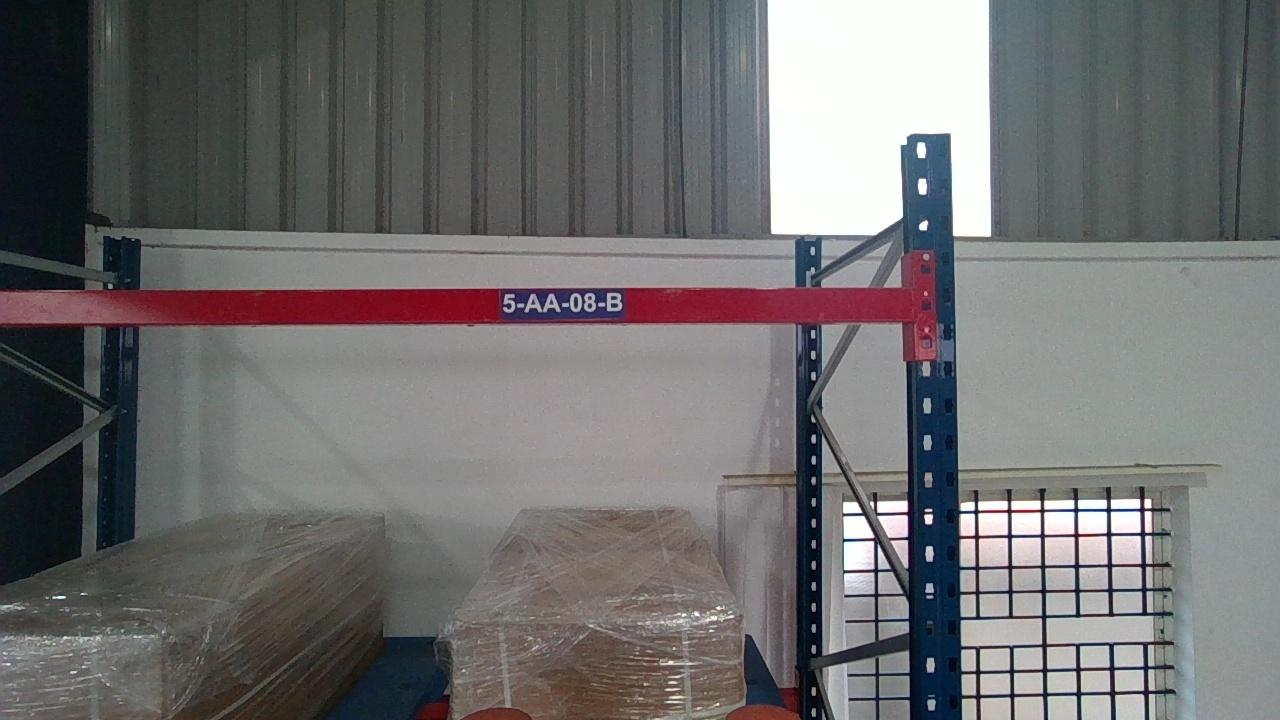h_rack: (1, 284, 914, 325)
